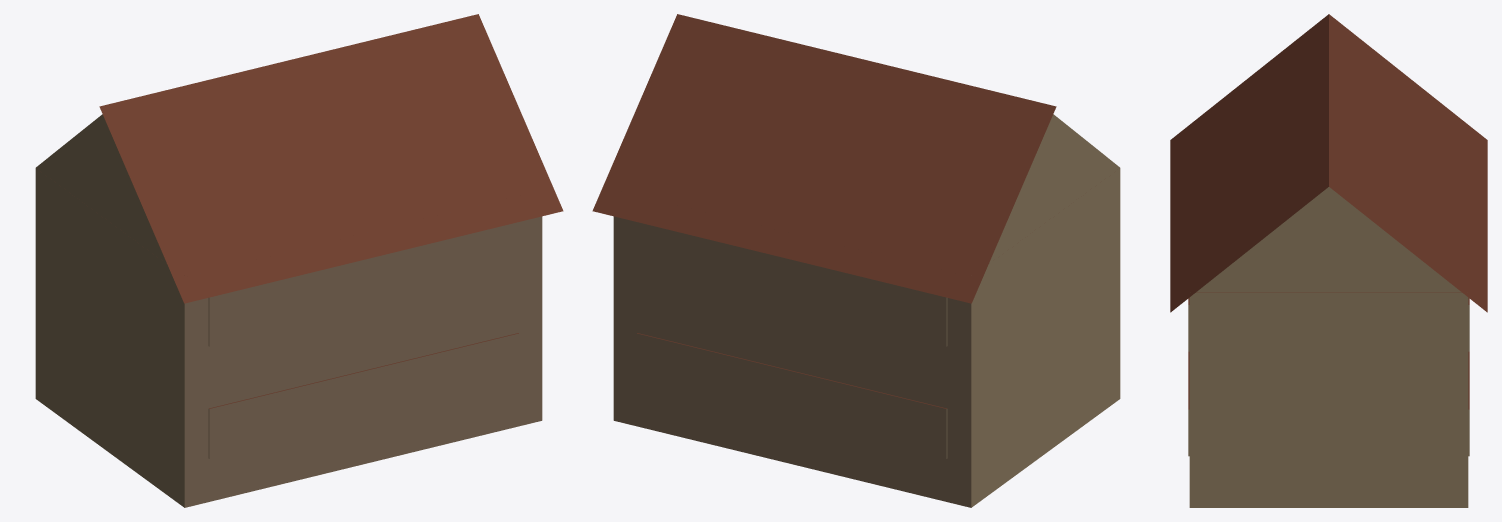
Rendered from cottage-stone.far-facades-v3.lod2.glb.
3 views of the same model, side by side, from view 1: azimuth 30°, elevation 25°; view 2: azimuth 150°, elevation 25°; view 3: azimuth 270°, elevation 25° (orthographic). The views are drawn at different scales.
Parts seen in each view (by area): view 1: cottage-stone; view 2: cottage-stone; view 3: cottage-stone.
Boxes of the visible parts, x1,y1,x2,y2 form: cottage-stone: [35, 14, 563, 507]; cottage-stone: [592, 14, 1120, 507]; cottage-stone: [1170, 14, 1487, 507].
Bounding box in the file's own units: 9.54 × 8.4 × 7.4.
